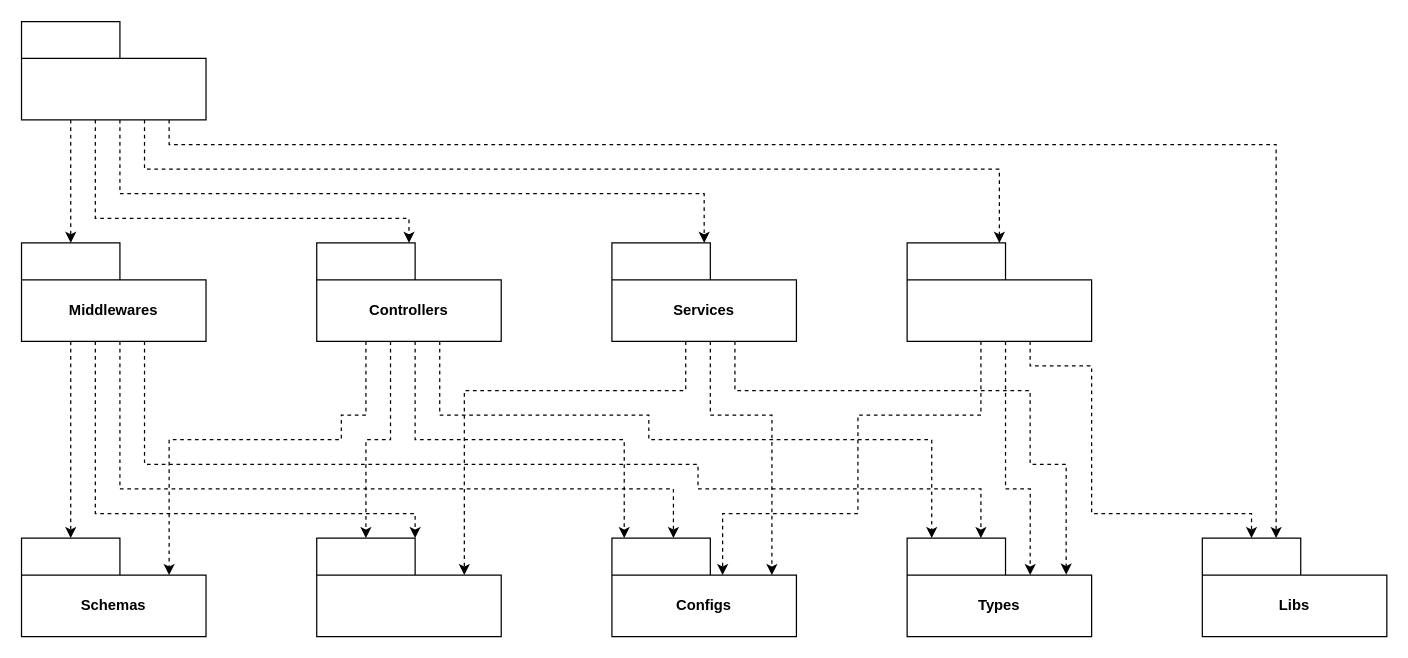
The diagram is 1408 pixels wide and 658 high, and some of its shapes have lost their labels. The shapes that lost their labels are listed below. From the top down, each one's box as (x1, y1, x2, y2) in pixels, then its label:
(20, 20, 206, 120): Routes
(906, 242, 1092, 341): Repositories
(315, 537, 501, 637): Utils
